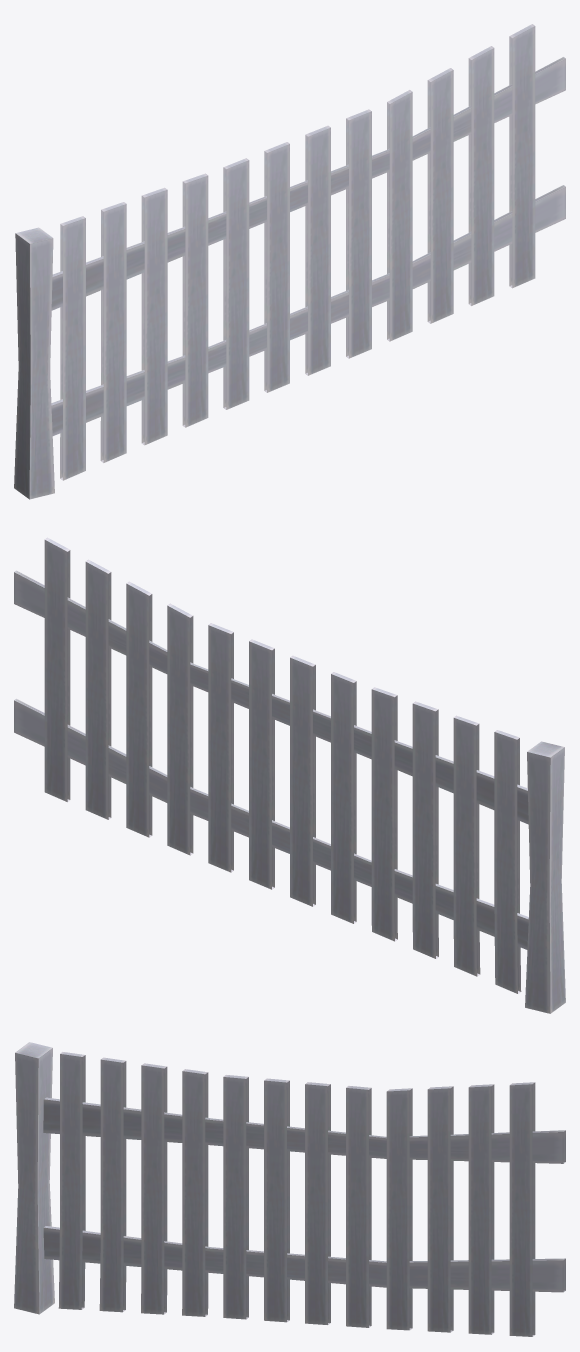
The model's file is INST_HTOWN_FENCEWHT10DEG.fbx.
3 renders of one model, top to bottom at view 1: azimuth 30°, elevation 25°; view 2: azimuth 150°, elevation 25°; view 3: azimuth 330°, elevation 25°, orthographic.
Parts seen in each view (by area): view 1: INST_HTOWN_FENCEWHT10DEG; view 2: INST_HTOWN_FENCEWHT10DEG; view 3: INST_HTOWN_FENCEWHT10DEG.
Boxes of the visible parts, x1=… form: INST_HTOWN_FENCEWHT10DEG: x1=14, y1=24, x2=565, y2=499; INST_HTOWN_FENCEWHT10DEG: x1=14, y1=537, x2=565, y2=1013; INST_HTOWN_FENCEWHT10DEG: x1=14, y1=1042, x2=565, y2=1336.
Size of the model in its own units: 30448 by 18729 by 1509.
2 materials, 2 textured.
